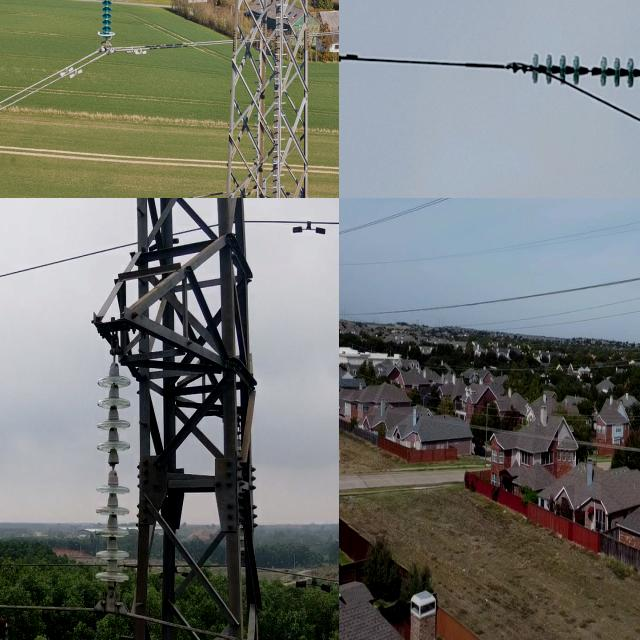杆塔: (88, 198, 272, 640), (87, 0, 339, 198)
正常电缆: (0, 212, 339, 290), (0, 593, 300, 640), (419, 266, 640, 322), (452, 414, 640, 455)
正常绝缘子: (90, 338, 140, 618), (510, 41, 640, 99), (91, 0, 124, 55)
绝缘子破损: (108, 454, 119, 480), (584, 65, 595, 77)
